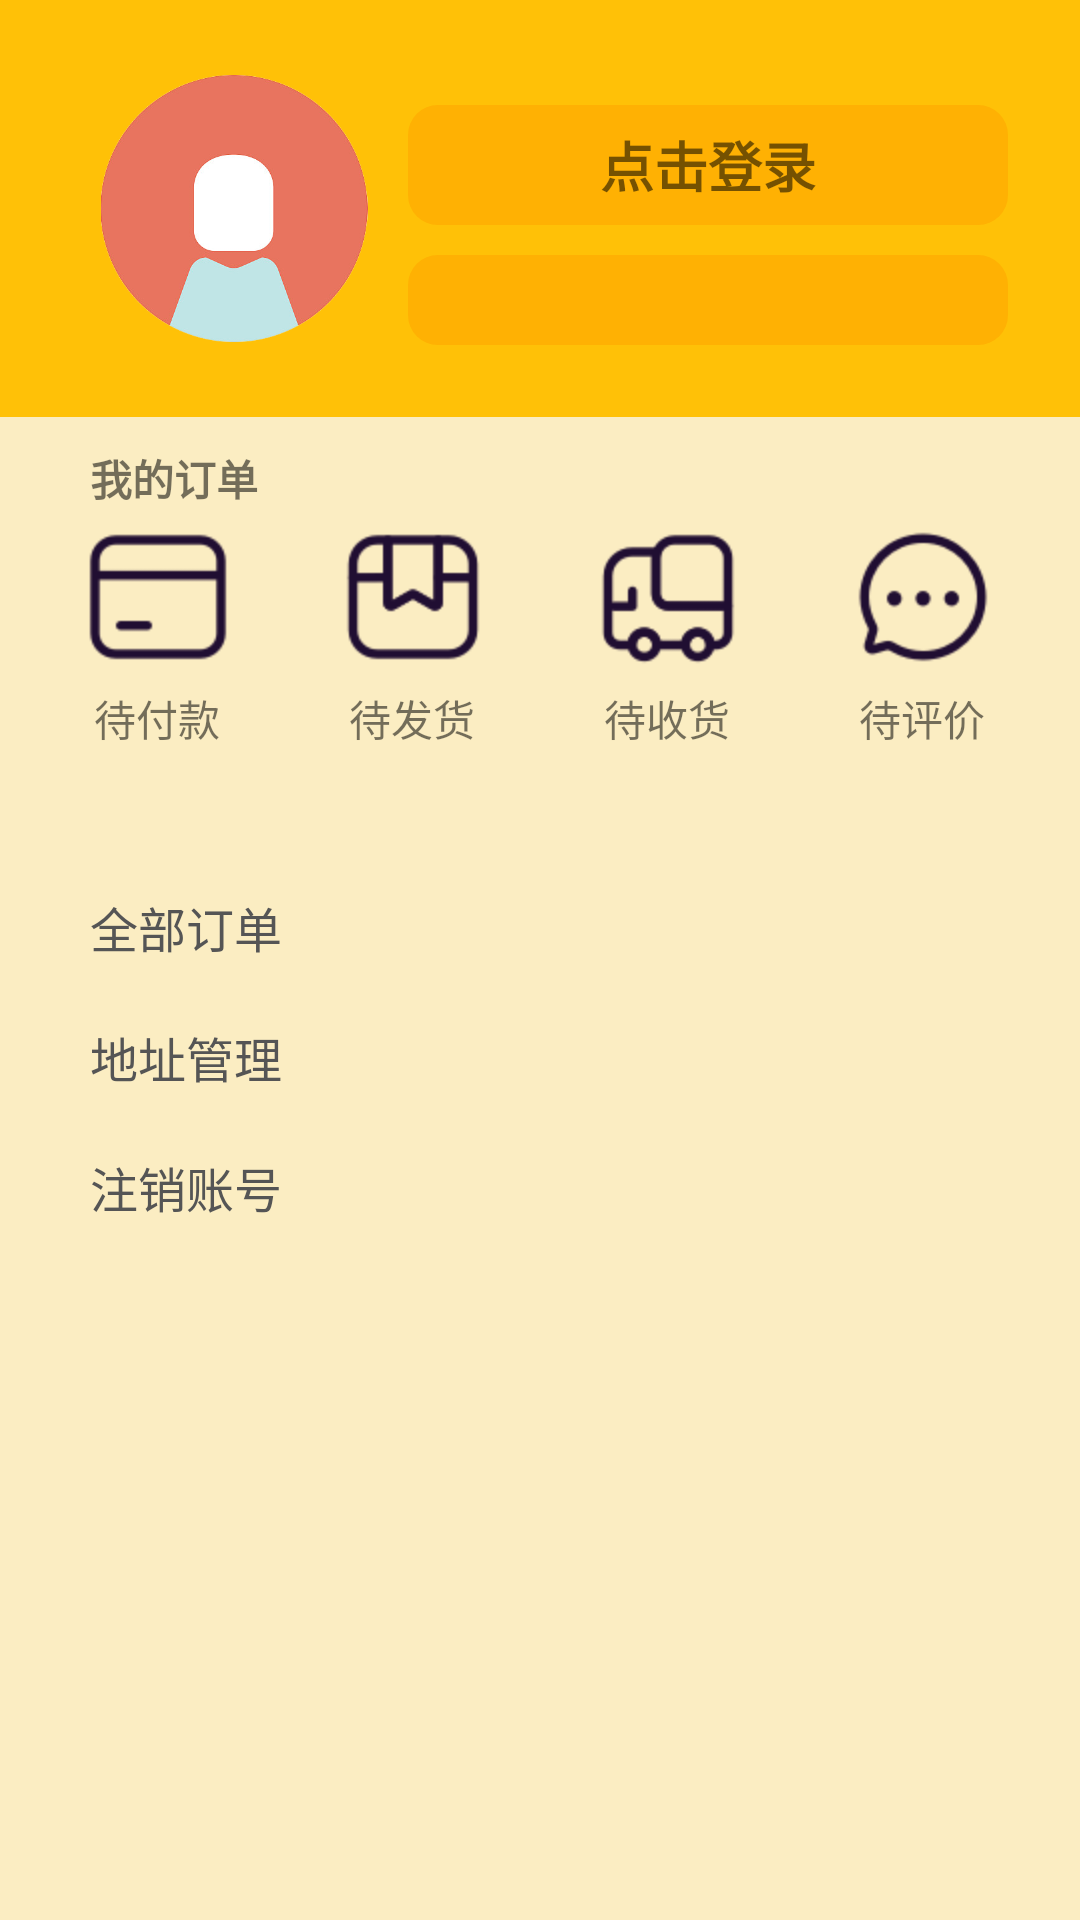

Screen size 1080×1920. Icon name, then its box in pixels as (x1,y1,x2,y2):
user: (101,75,368,342)
